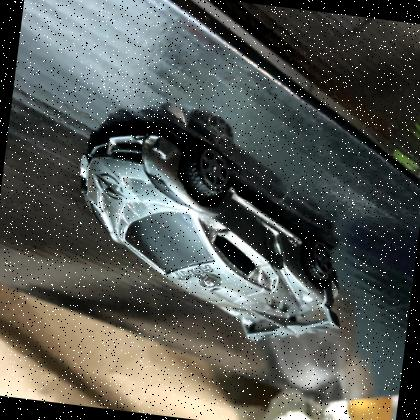Car: (79, 130, 341, 341)
